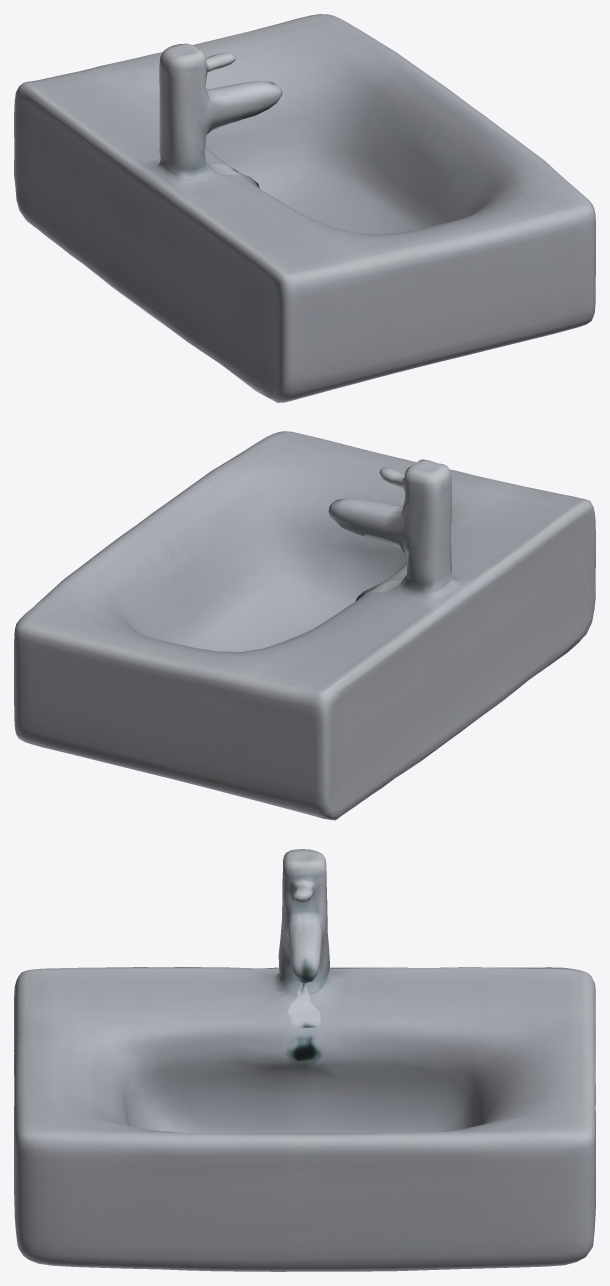
File: 1f2a8b27f1c8_small_bathroom_sink.fbx
The picture shows the model from 3 angles, top to bottom: view 1: azimuth 30°, elevation 25°; view 2: azimuth 150°, elevation 25°; view 3: azimuth 270°, elevation 25°; orthographic projection. The views are drawn at different scales.
Parts seen in each view (by area): view 1: mesh; view 2: mesh; view 3: mesh.
Part boxes in pixels (x1,y1,x2,y2): mesh: [14, 14, 595, 402]; mesh: [14, 431, 595, 820]; mesh: [14, 849, 595, 1271].
Size of the model in its own units: 69.28 by 54.01 by 99.94.
